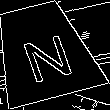N_N: (12, 22, 74, 82)
